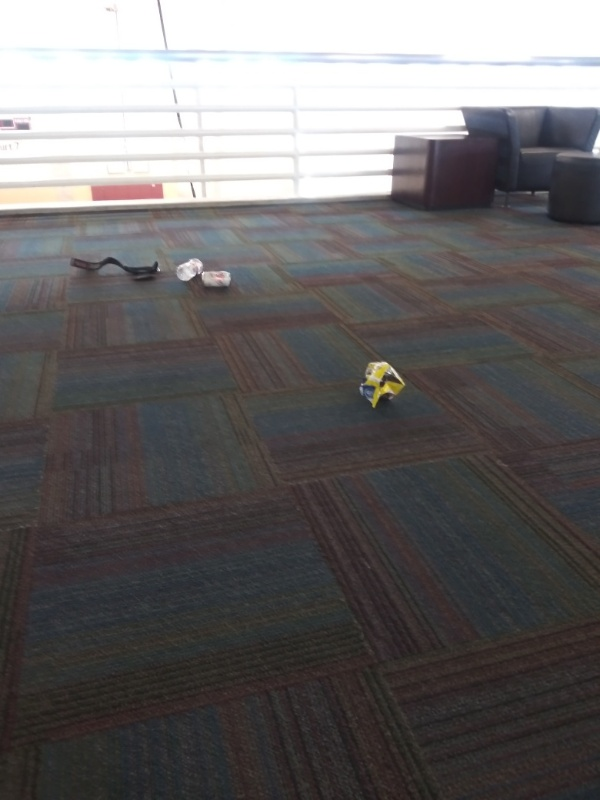bag: (356, 358, 410, 411)
bottle: (172, 254, 205, 284)
can: (196, 266, 234, 293)
